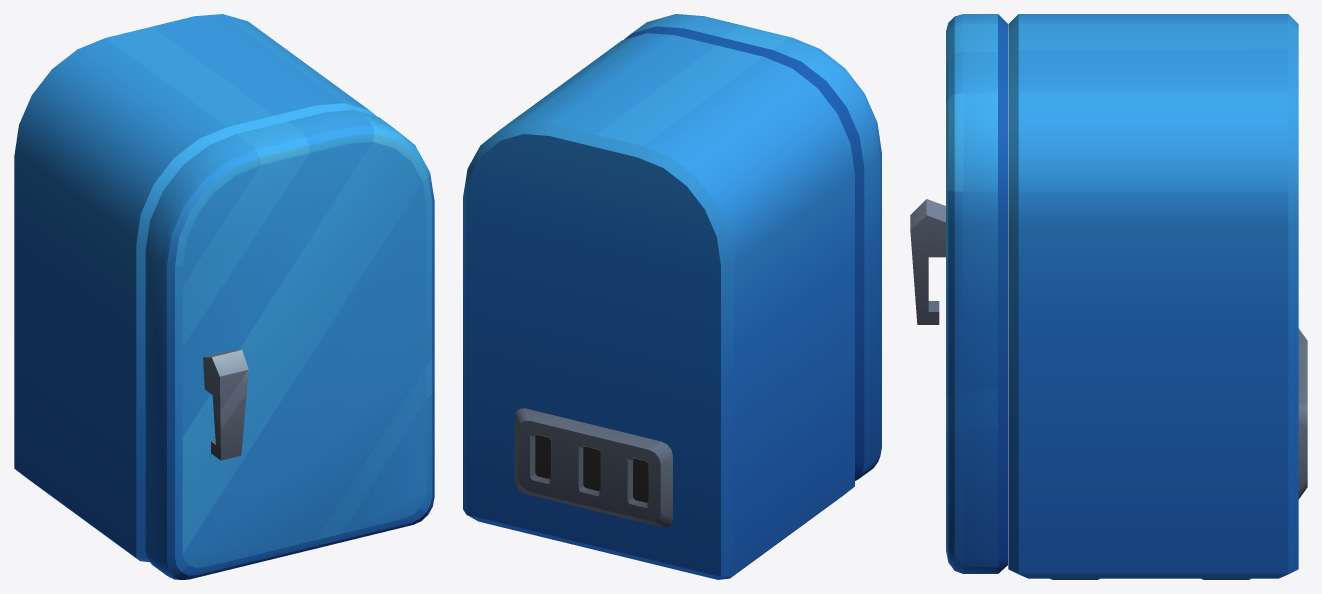
The model's file is fridge.fbx.
3 renders of one model, left to right at view 1: azimuth 30°, elevation 25°; view 2: azimuth 150°, elevation 25°; view 3: azimuth 270°, elevation 25°, orthographic. The views are drawn at different scales.
Visible parts, largest first — view 1: fridge_door, fridge; view 2: fridge, fridge_door; view 3: fridge, fridge_door.
Boxes of the visible parts, box(x1,y1,x2,y2) form: fridge_door: box(145, 110, 434, 579); fridge: box(14, 14, 376, 562); fridge: box(463, 33, 854, 579); fridge_door: box(624, 14, 881, 480); fridge: box(1008, 14, 1307, 579); fridge_door: box(910, 14, 1007, 573).
Size of the model in its own units: 115 by 175 by 132.
